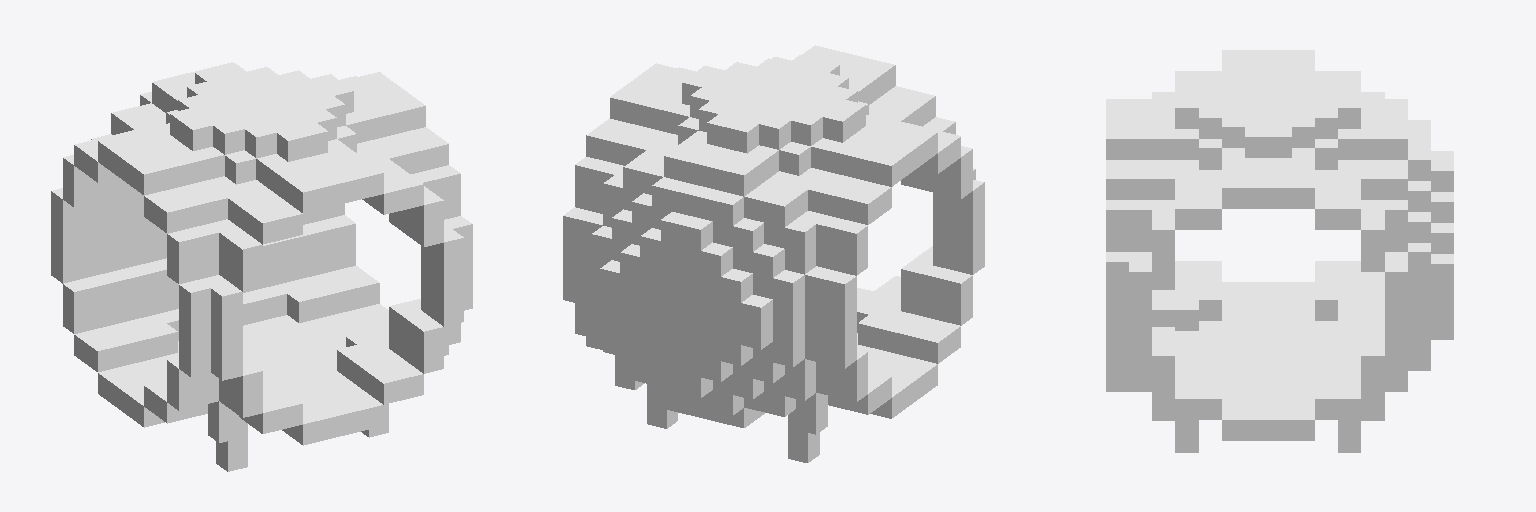
The model's file is tunnelKit_corner_02_v1.obj.
3 renders of one model, left to right at view 1: azimuth 30°, elevation 25°; view 2: azimuth 150°, elevation 25°; view 3: azimuth 270°, elevation 25°, orthographic.
Parts seen in each view (by area): view 1: object 1; view 2: object 1; view 3: object 1.
Boxes of the visible parts, x1,y1,x2,y2 form: object 1: [51, 62, 472, 471]; object 1: [563, 45, 984, 462]; object 1: [1106, 50, 1453, 452].
Bounding box in the file's own units: 1.4 × 1.5 × 1.5.